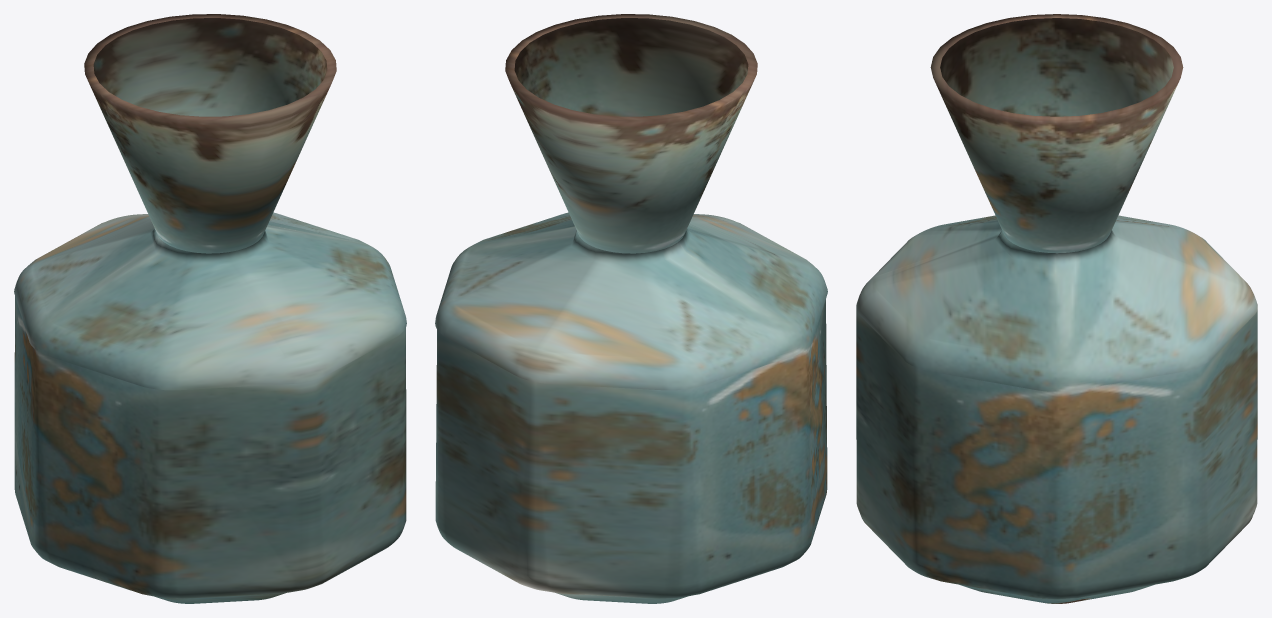
Rendered from shoppify_artefact.glb.
3 views of the same model, side by side, from view 1: azimuth 30°, elevation 25°; view 2: azimuth 150°, elevation 25°; view 3: azimuth 270°, elevation 25° (orthographic).
Parts seen in each view (by area): view 1: Circle; view 2: Circle; view 3: Circle.
Boxes of the visible parts, <box> form: Circle: <box>14,14,406,603</box>; Circle: <box>435,14,827,603</box>; Circle: <box>856,14,1257,603</box>.
Size of the model in its own units: 1.96 by 2.62 by 1.96.
1 material, 1 textured.
